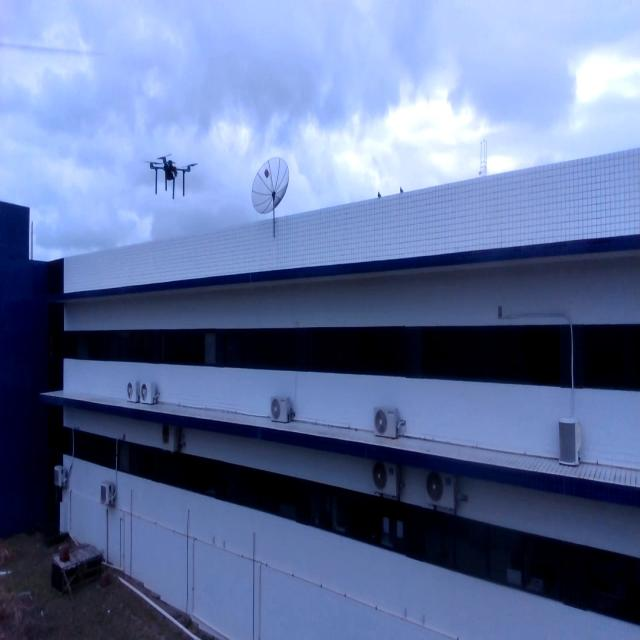-uav-: (138, 138, 198, 209)
